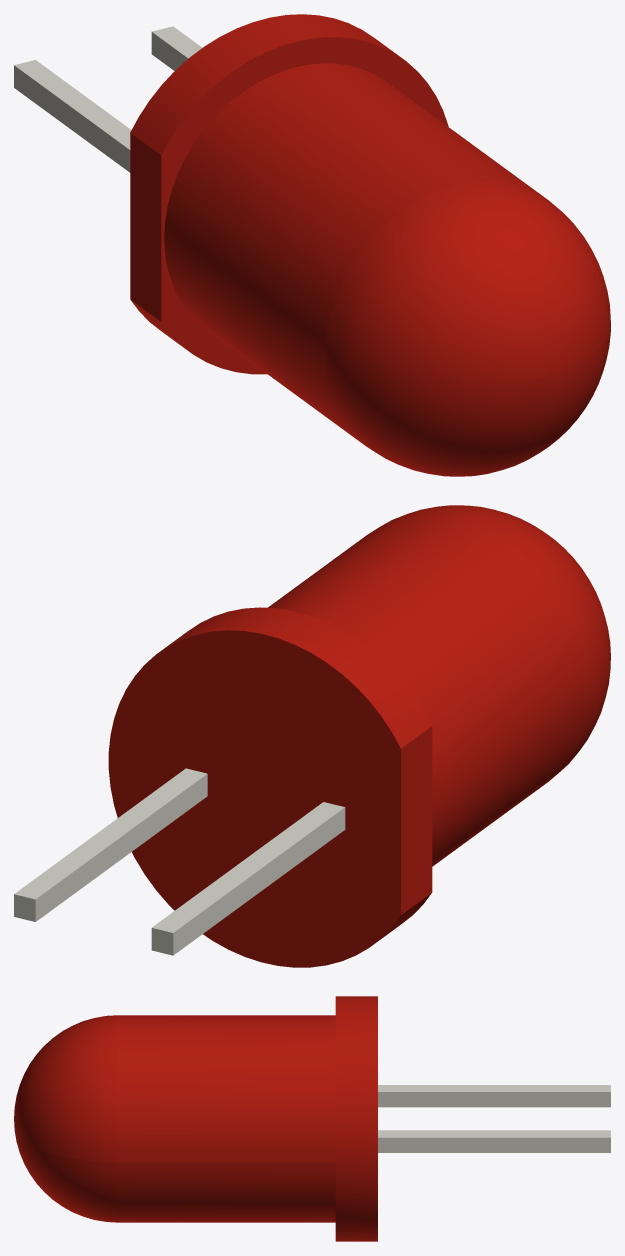
Rendered from led.glb.
The picture shows the model from 3 angles, top to bottom: view 1: azimuth 30°, elevation 25°; view 2: azimuth 150°, elevation 25°; view 3: azimuth 270°, elevation 25°; orthographic projection. The views are drawn at different scales.
Parts seen in each view (by area): view 1: LED_D5.0mm; view 2: LED_D5.0mm; view 3: LED_D5.0mm.
Part boxes in pixels (<box>): LED_D5.0mm: <box>14,14,610,476</box>; LED_D5.0mm: <box>14,505,610,967</box>; LED_D5.0mm: <box>14,996,610,1241</box>.
Size of the model in its own units: 5.4 by 5.8 by 14.1.
